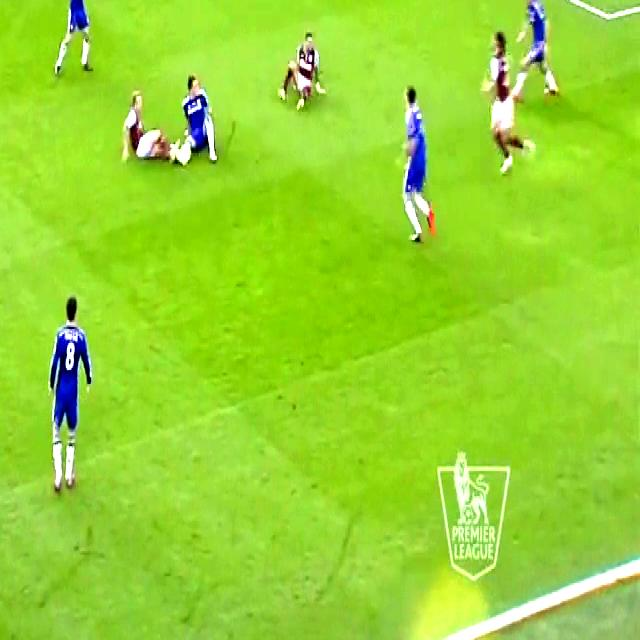soccer-player: (46, 284, 94, 496), (387, 73, 441, 249), (474, 28, 534, 178), (119, 85, 188, 172), (511, 0, 562, 112), (274, 20, 328, 114), (176, 61, 220, 172), (54, 0, 104, 82)
